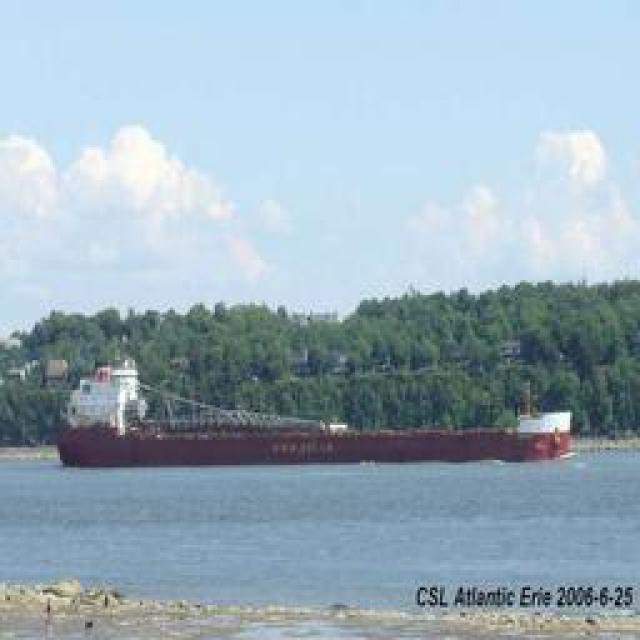Ship: (63, 403, 581, 471)
